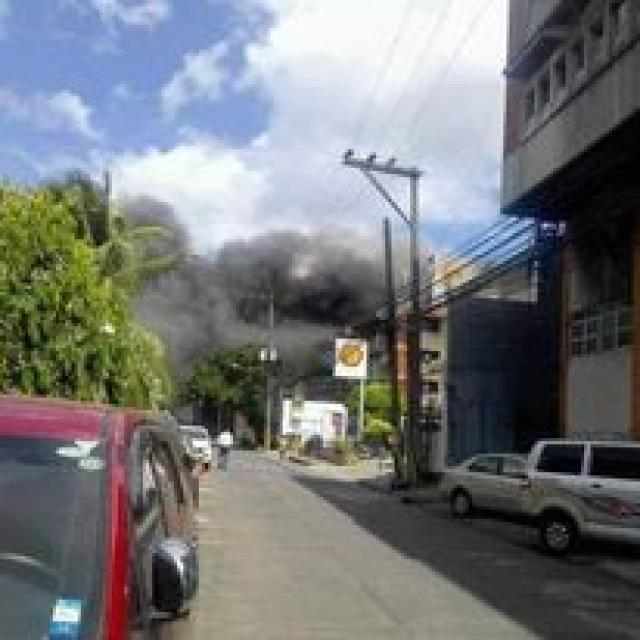Smoke: (204, 242, 377, 334), (150, 282, 218, 364)
